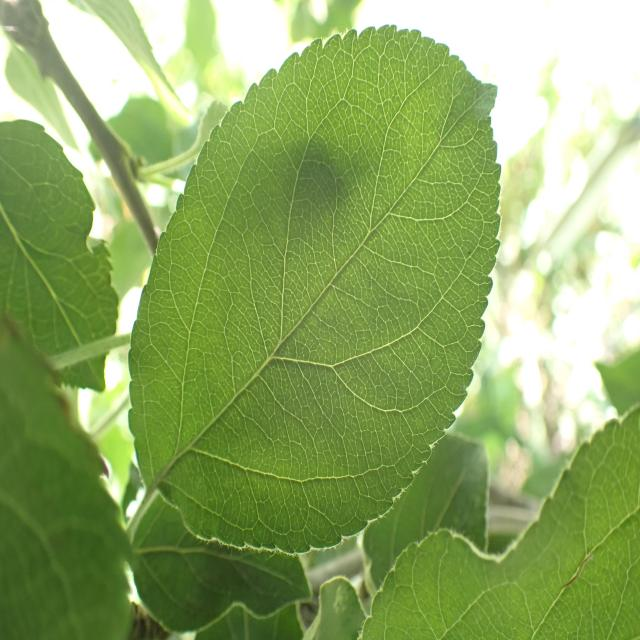healthy: (129, 23, 502, 556), (357, 404, 640, 640), (0, 317, 134, 640), (0, 119, 120, 394), (126, 493, 312, 633), (361, 435, 488, 595)
